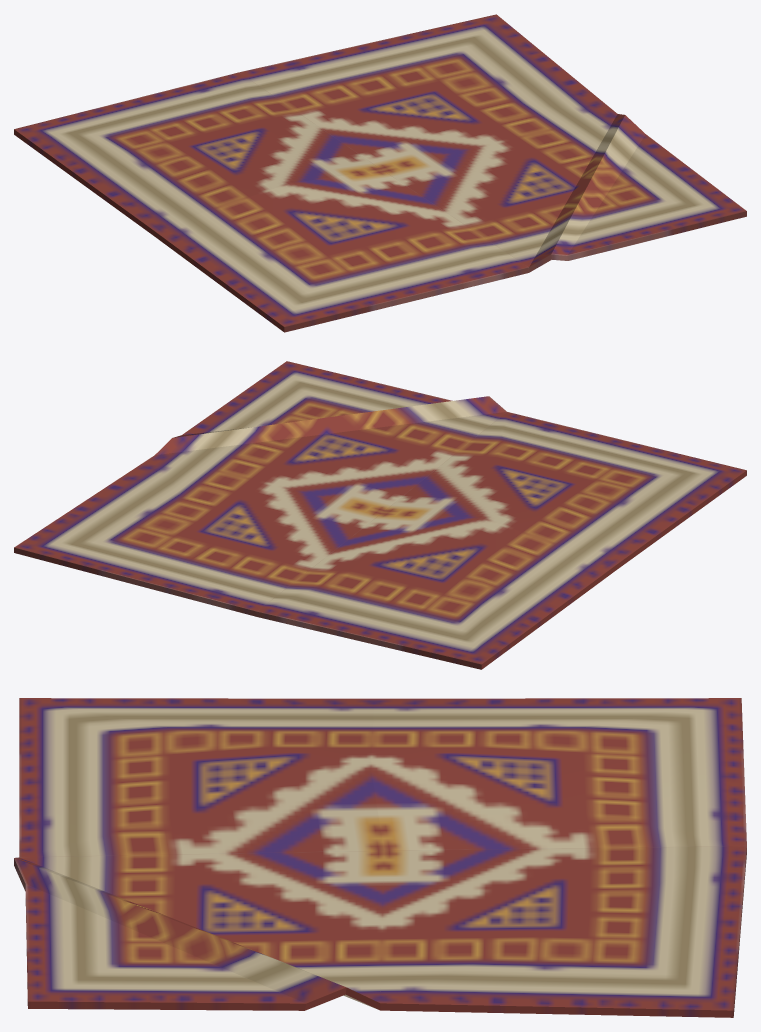
The model's file is SM_Prop_Rug_04.fbx.
3 views of the same model, one above another, from view 1: azimuth 30°, elevation 25°; view 2: azimuth 150°, elevation 25°; view 3: azimuth 270°, elevation 25° (orthographic). The views are drawn at different scales.
Parts seen in each view (by area): view 1: SM_Prop_Rug_04; view 2: SM_Prop_Rug_04; view 3: SM_Prop_Rug_04.
Boxes of the visible parts, bbox=[...] form: SM_Prop_Rug_04: bbox=[14, 14, 746, 332]; SM_Prop_Rug_04: bbox=[14, 361, 746, 669]; SM_Prop_Rug_04: bbox=[14, 698, 746, 1017].
Size of the model in its own units: 309 by 11.99 by 306.
